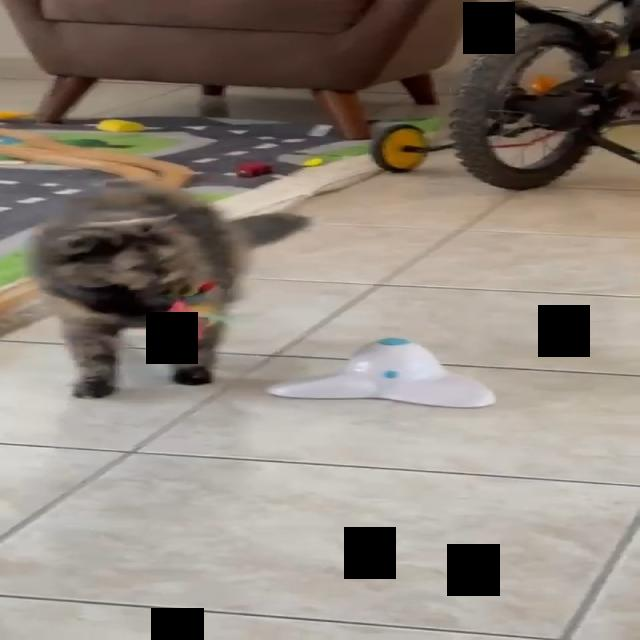authorized: (0, 178, 312, 399)
